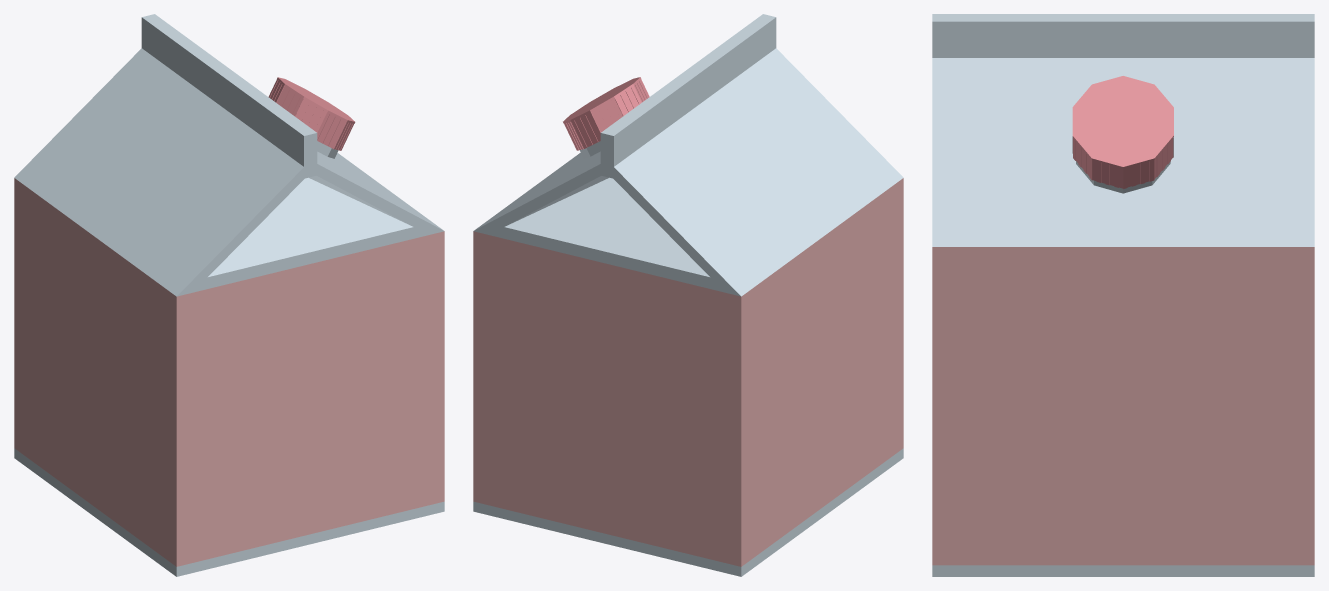
The model's file is mleczko.fbx.
3 renders of one model, left to right at view 1: azimuth 30°, elevation 25°; view 2: azimuth 150°, elevation 25°; view 3: azimuth 270°, elevation 25°, orthographic. The views are drawn at different scales.
Visible parts, largest first — view 1: Cube.053, Cylinder.041; view 2: Cube.053, Cylinder.041; view 3: Cube.053, Cylinder.041.
Boxes of the visible parts, x1,y1,x2,y2 form: Cube.053: (14,14,444,576); Cylinder.041: (268,77,355,158); Cube.053: (473,14,903,576); Cylinder.041: (563,77,649,158); Cube.053: (932,14,1314,576); Cylinder.041: (1072,76,1173,193).
Size of the model in its own units: 82.73 by 121 by 86.78.
